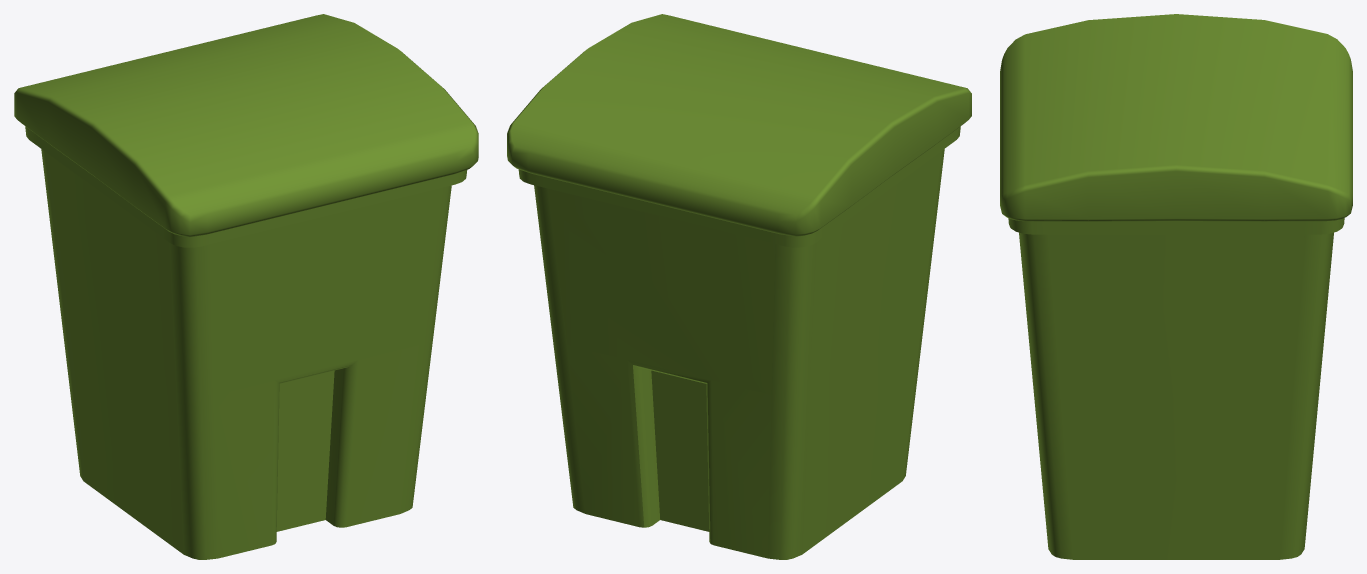
The model's file is SM_Trash_Bin_03.fbx.
The picture shows the model from 3 angles, left to right: view 1: azimuth 30°, elevation 25°; view 2: azimuth 150°, elevation 25°; view 3: azimuth 270°, elevation 25°; orthographic projection. The views are drawn at different scales.
Visible parts, largest first — view 1: SM_Trash_Bin_03; view 2: SM_Trash_Bin_03; view 3: SM_Trash_Bin_03.
Part boxes in pixels (x1,y1,x2,y2): SM_Trash_Bin_03: (14, 14, 478, 559); SM_Trash_Bin_03: (507, 14, 971, 559); SM_Trash_Bin_03: (1000, 14, 1352, 559).
Bounding box in the file's own units: 213 × 265 × 205.
